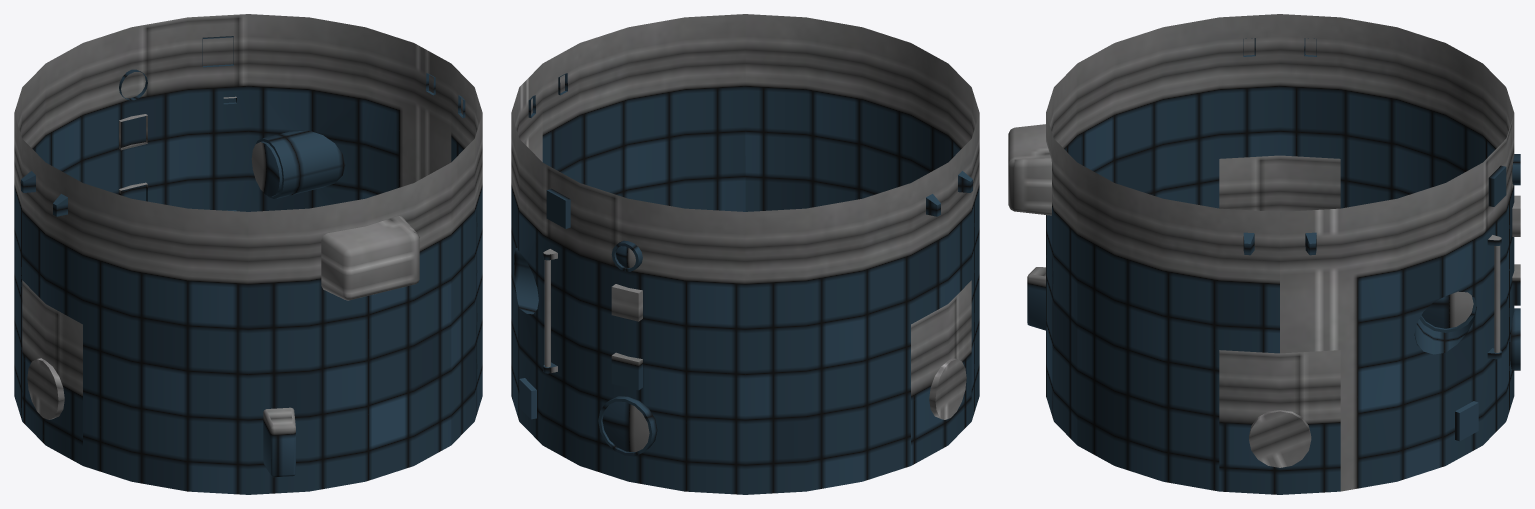
Rendered from aquila_crew_s1p5_1.obj.
The picture shows the model from 3 angles, left to right: view 1: azimuth 30°, elevation 25°; view 2: azimuth 150°, elevation 25°; view 3: azimuth 270°, elevation 25°; orthographic projection.
Parts seen in each view (by area): view 1: 1, w1; view 2: 1, w1; view 3: 1, w1.
Boxes of the visible parts, x1,y1,x2,y2 form: 1: (14, 14, 482, 494); w1: (251, 142, 279, 196); 1: (511, 14, 979, 494); w1: (602, 246, 649, 451); 1: (1008, 14, 1520, 494); w1: (1421, 291, 1473, 328).
Bounding box in the file's own units: 1.94 × 1.25 × 2.05.
